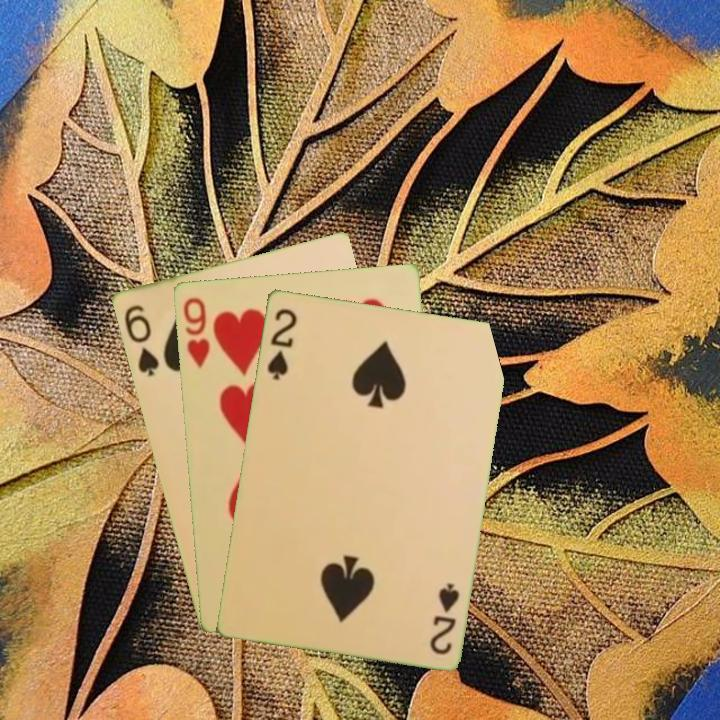2s: (263, 304, 300, 382), (425, 579, 462, 657)
6s: (120, 301, 162, 379)
9h: (179, 293, 212, 370)
